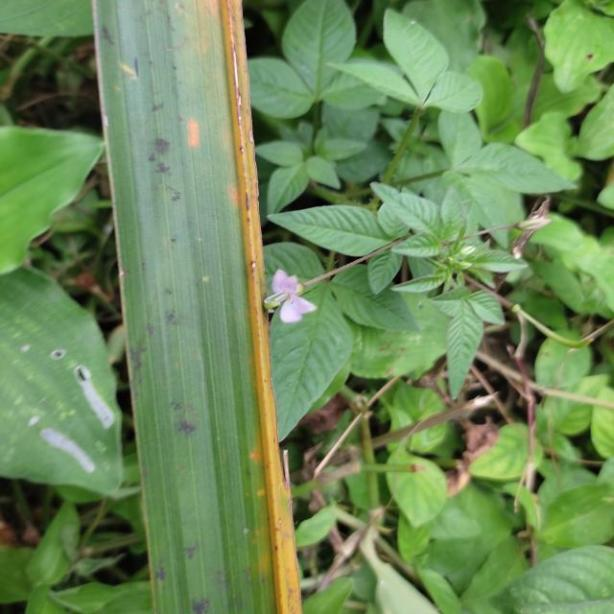Megnesium: (90, 3, 303, 614)
